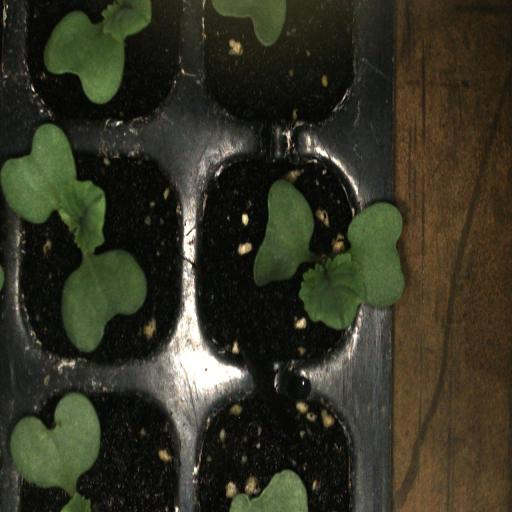Folha: (299, 201, 405, 330), (253, 179, 314, 286), (209, 0, 289, 48), (229, 469, 308, 512)
Germinacao: (192, 140, 374, 372), (12, 141, 193, 369), (12, 370, 195, 512), (13, 0, 192, 138)
